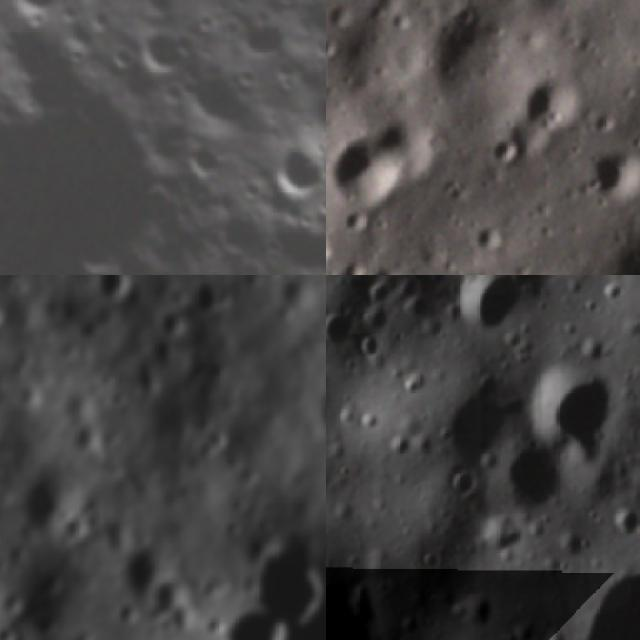crater: (397, 0, 538, 110), (512, 350, 621, 464), (326, 120, 421, 237), (417, 377, 516, 475), (363, 101, 461, 198), (502, 56, 597, 150), (480, 435, 576, 526), (163, 54, 254, 146), (245, 531, 326, 625), (326, 556, 409, 640), (258, 132, 326, 215), (125, 10, 199, 86), (573, 138, 640, 220), (223, 0, 297, 74), (204, 199, 276, 271), (115, 528, 172, 606), (0, 7, 32, 138), (145, 566, 203, 638), (449, 275, 520, 330), (174, 135, 234, 195), (15, 474, 72, 536), (582, 218, 640, 275), (459, 208, 513, 264), (217, 605, 297, 640), (479, 126, 531, 178), (0, 0, 66, 32), (187, 275, 228, 320), (66, 419, 106, 465), (455, 593, 500, 633), (606, 503, 640, 555), (326, 304, 363, 351), (101, 35, 143, 76), (326, 250, 394, 275), (190, 424, 232, 464), (88, 275, 139, 306), (154, 306, 194, 342), (358, 255, 421, 275), (11, 376, 47, 406), (309, 378, 326, 437), (0, 295, 17, 334), (106, 386, 130, 412), (98, 370, 116, 392)
